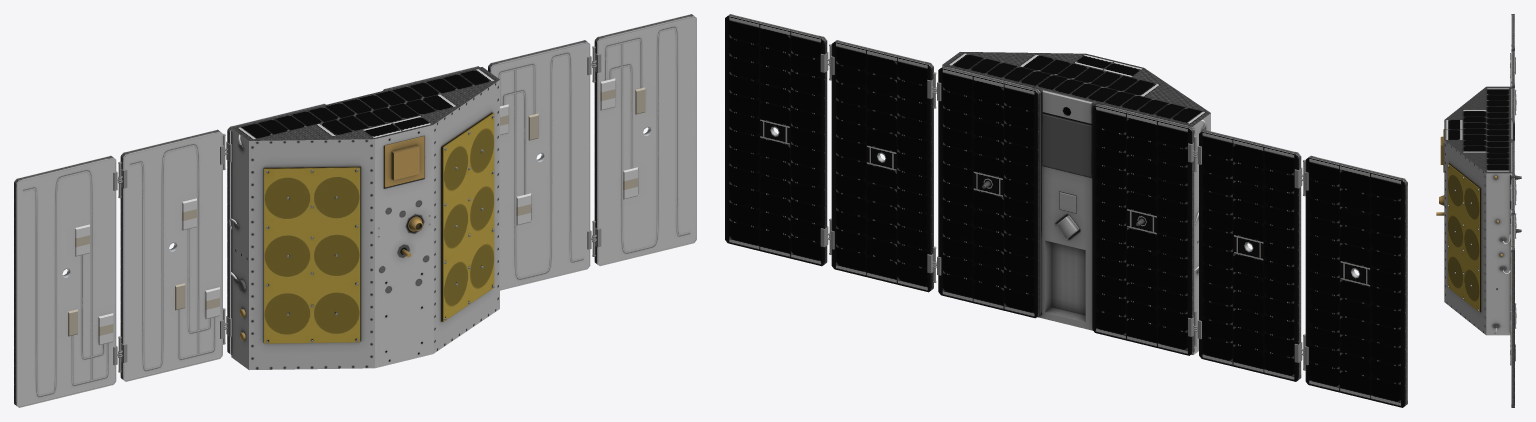
Rendered from cygnss_nasa_3d_resources.glb.
The picture shows the model from 3 angles, left to right: view 1: azimuth 30°, elevation 25°; view 2: azimuth 150°, elevation 25°; view 3: azimuth 270°, elevation 25°; orthographic projection. The views are drawn at different scales.
Parts seen in each view (by area): view 1: BUS, array_right3, array_left2, array_right1, array_left1, array_left2_instruments, array_right2_instruments, array_right1_instruments, array_left1_instruments; view 2: BUS, array_right3, array_left2, array_left1, array_right1; view 3: BUS, array_left2, array_left1, array_right1, array_right3, array_left2_instruments, hinges_left2_left, hinges_left1_left.
Boxes of the visible parts, x1,y1,x2,y2 form: BUS: [227, 66, 499, 370]; array_right3: [14, 155, 116, 407]; array_left2: [594, 14, 696, 266]; array_right1: [120, 129, 222, 381]; array_left1: [488, 40, 590, 290]; array_left2_instruments: [600, 78, 645, 199]; array_right2_instruments: [68, 224, 113, 345]; array_right1_instruments: [175, 198, 219, 319]; array_left1_instruments: [500, 104, 538, 225]; BUS: [938, 52, 1210, 355]; array_right3: [1305, 155, 1407, 407]; array_left2: [725, 14, 827, 266]; array_left1: [831, 40, 933, 292]; array_right1: [1199, 129, 1301, 381]; BUS: [1436, 86, 1521, 335]; array_left2: [1511, 214, 1514, 407]; array_left1: [1511, 177, 1514, 214]; array_right1: [1511, 50, 1514, 87]; array_right3: [1511, 14, 1514, 50]; array_left2_instruments: [1510, 245, 1511, 344]; hinges_left2_left: [1510, 216, 1515, 365]; hinges_left1_left: [1510, 187, 1516, 324].
Bounding box in the file's own units: 1.59 × 0.5121 × 0.2442.
6 materials, 1 textured.
